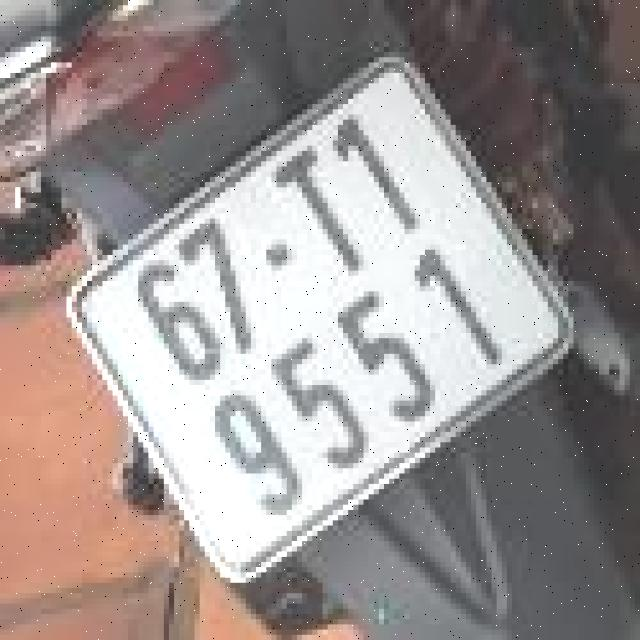1: (389, 224, 525, 383), (318, 98, 440, 258)
5: (251, 321, 396, 492), (317, 276, 464, 443)
6: (121, 251, 242, 404)
7: (162, 204, 284, 370)
9: (200, 376, 325, 542)
T: (263, 131, 388, 292)
